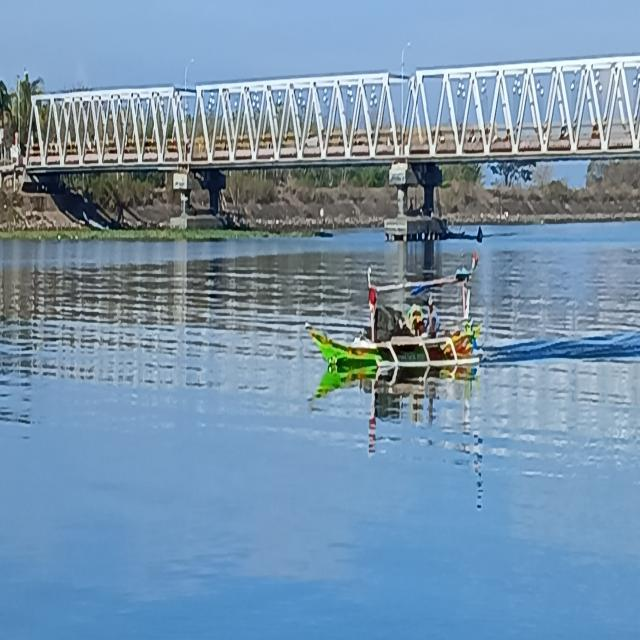Fishing Boat: (268, 206, 492, 434)
